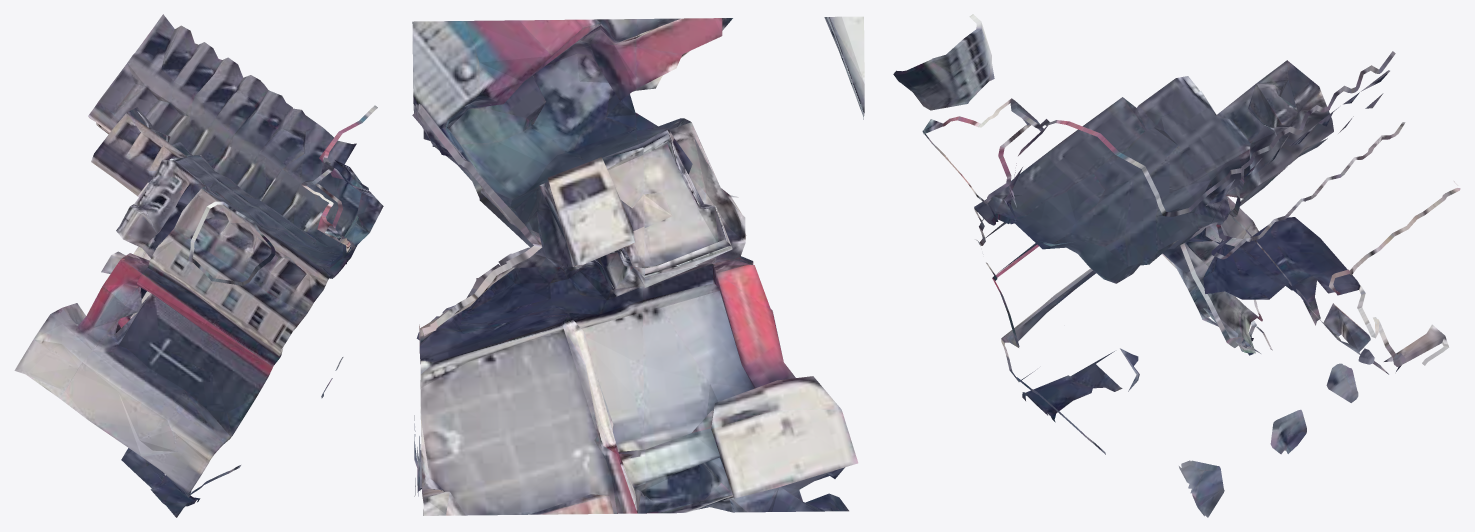
3 views of the same model, side by side, from view 1: azimuth 30°, elevation 25°; view 2: azimuth 150°, elevation 25°; view 3: azimuth 270°, elevation 25° (orthographic). The views are drawn at different scales.
Size of the model in its own units: 43.25 by 44.33 by 52.6.
2 materials, 2 textured.
